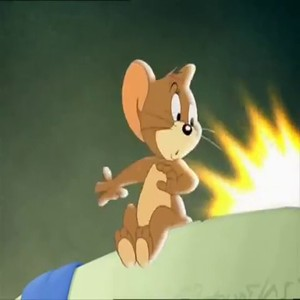Jerry: (95, 59, 202, 268)
